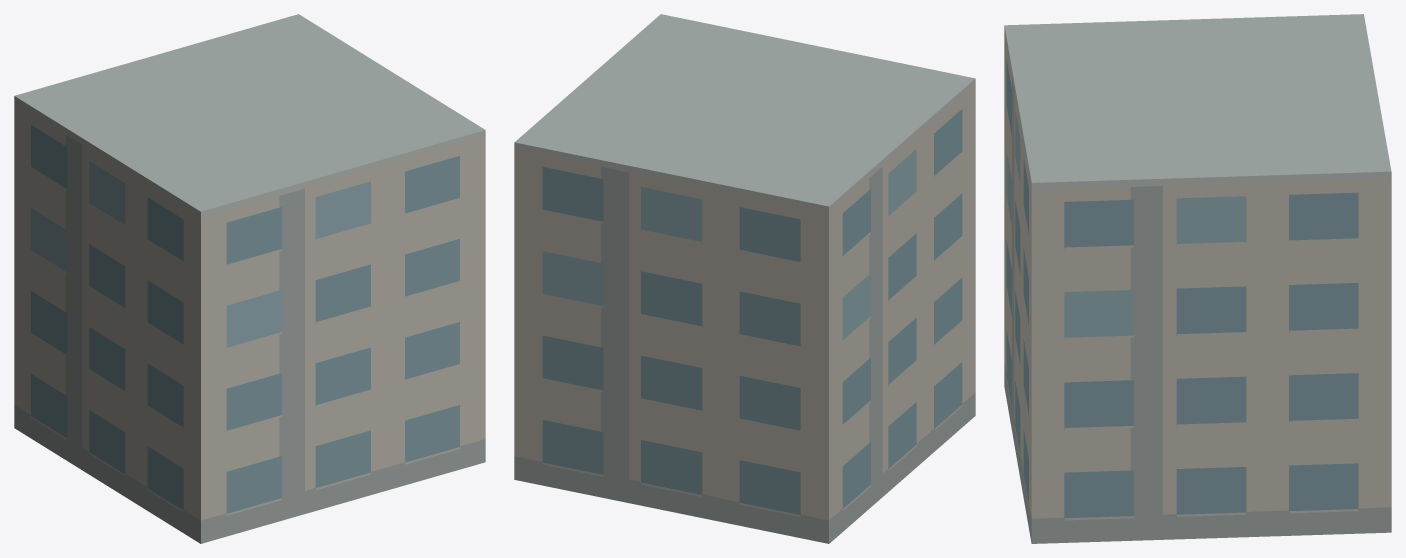
Rendered from residential-668ad19e-b751-44d0-b6f4-a44847e79232.glb.
The picture shows the model from 3 angles, left to right: view 1: azimuth 30°, elevation 25°; view 2: azimuth 150°, elevation 25°; view 3: azimuth 270°, elevation 25°; orthographic projection. The views are drawn at different scales.
Visible parts, largest first — view 1: residential-668ad19e-b751-44d0-b6f4-a44847e79232.tmp; view 2: residential-668ad19e-b751-44d0-b6f4-a44847e79232.tmp; view 3: residential-668ad19e-b751-44d0-b6f4-a44847e79232.tmp.
Part boxes in pixels (bbox=[...]): residential-668ad19e-b751-44d0-b6f4-a44847e79232.tmp: bbox=[14, 14, 485, 543]; residential-668ad19e-b751-44d0-b6f4-a44847e79232.tmp: bbox=[514, 14, 975, 543]; residential-668ad19e-b751-44d0-b6f4-a44847e79232.tmp: bbox=[1004, 14, 1391, 543].
Size of the model in its own units: 12.25 by 12.2 by 11.87.
